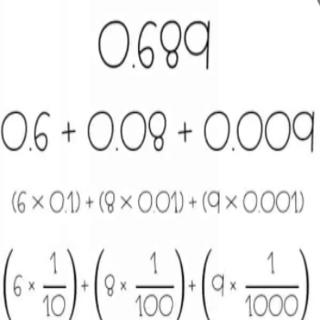.: (230, 145, 237, 152), (114, 145, 119, 153), (131, 62, 136, 69), (27, 145, 32, 152)
0: (97, 19, 129, 69), (202, 109, 231, 152), (86, 111, 114, 152), (1, 109, 27, 152)
6: (137, 19, 158, 70), (33, 111, 51, 153)
8: (159, 19, 182, 70), (147, 109, 167, 153)
9: (183, 19, 214, 70), (291, 109, 317, 154)
